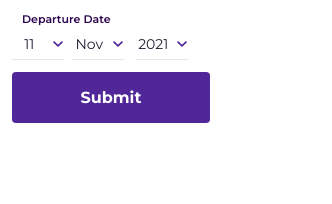
Test: [Component]: DropdownDatePicker › should validate max number of days in the past
The width and height of the screenshot is (332, 204).
Click the button "Submit" at (111, 98), box [12,72,210,123]
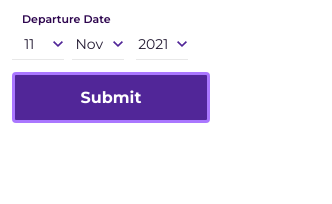
Click the button with test id "departureDate-date-dropdown" at (38, 48), box [12,35,64,60]
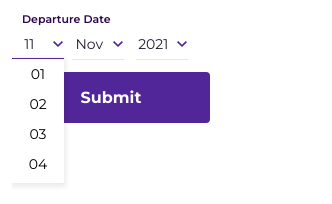
Expected: the list with test id "date-dropdown" is shown, [12,58,64,183]
Click the button with test id "dropdown-item-button" showing "01" at (38, 74), box [12,59,64,89]
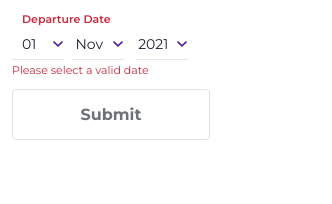
Expected: the text with test id "error-departureDate" reads "Please select a valid date", [12,63,149,77]
